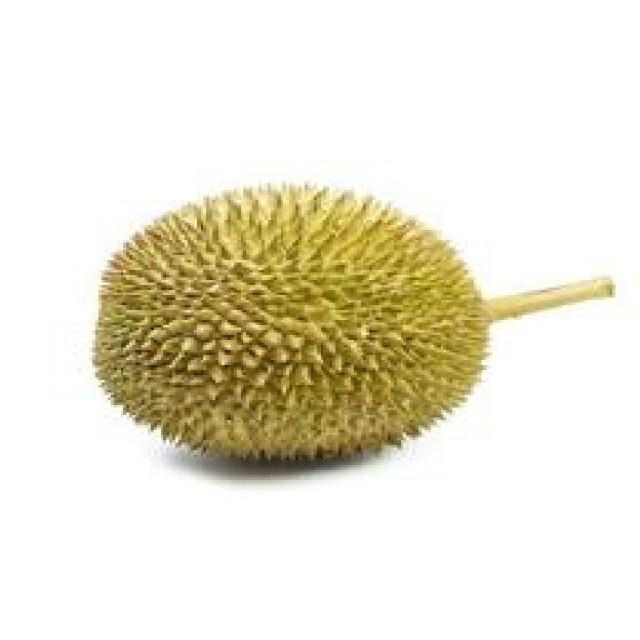Fruit: (218, 180, 622, 465), (7, 183, 376, 475)
